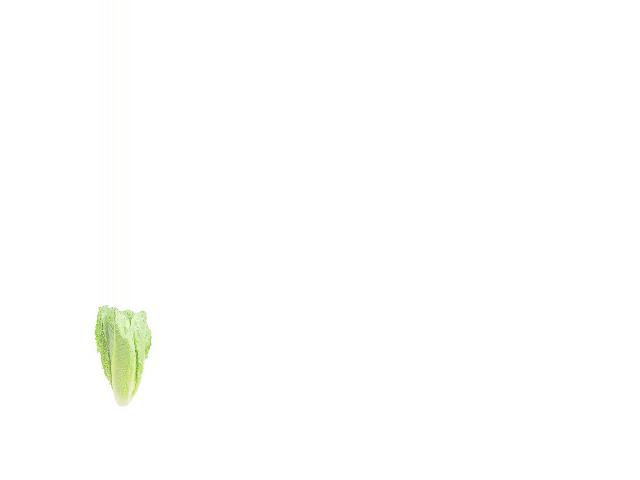lettuce: (89, 304, 155, 408)
